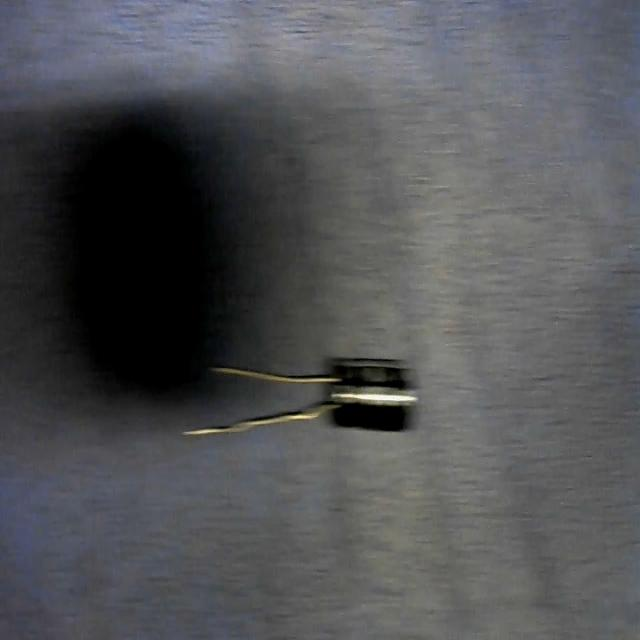capacitor: (183, 356, 413, 433)
